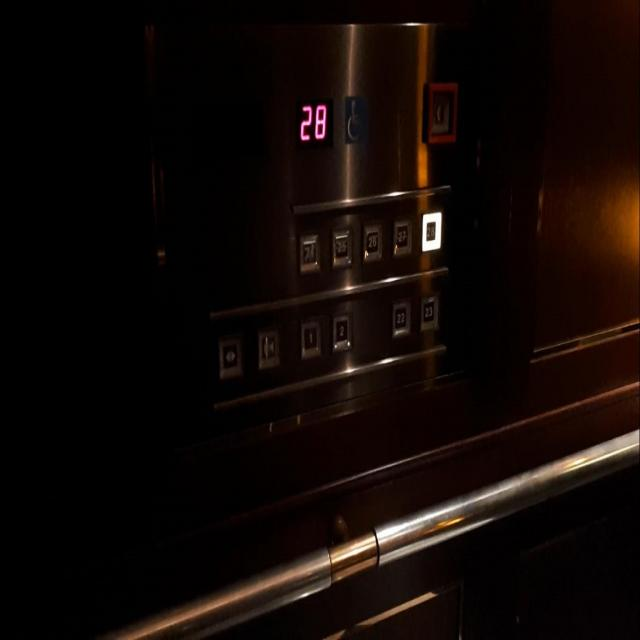1: (300, 316, 322, 359)
2: (330, 311, 351, 351)
22: (390, 298, 411, 336)
23: (419, 294, 439, 334)
24: (298, 229, 321, 273)
25: (329, 226, 353, 270)
26: (361, 221, 384, 265)
27: (391, 215, 414, 259)
28: (420, 208, 443, 252)
CH: (343, 94, 369, 142)
bt_keyhole: (422, 78, 460, 146)
close: (259, 326, 280, 369)
led: (294, 97, 334, 149)
open: (219, 336, 240, 379)
